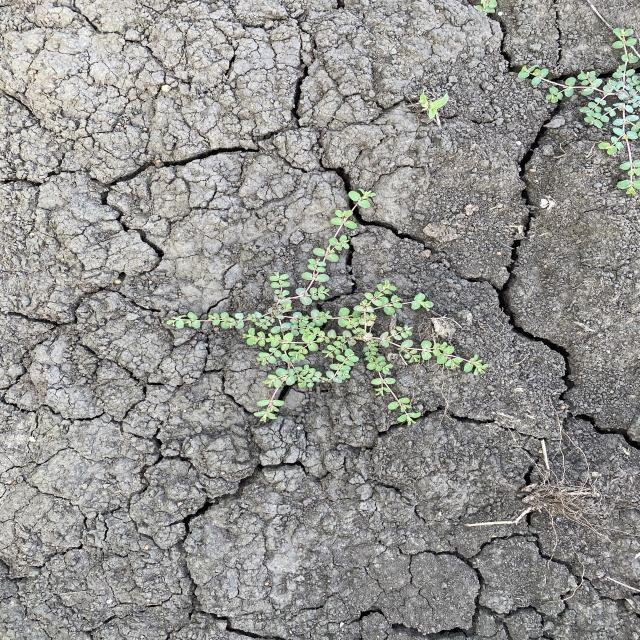SpottedSpurge: (164, 187, 494, 430), (514, 25, 638, 199)
